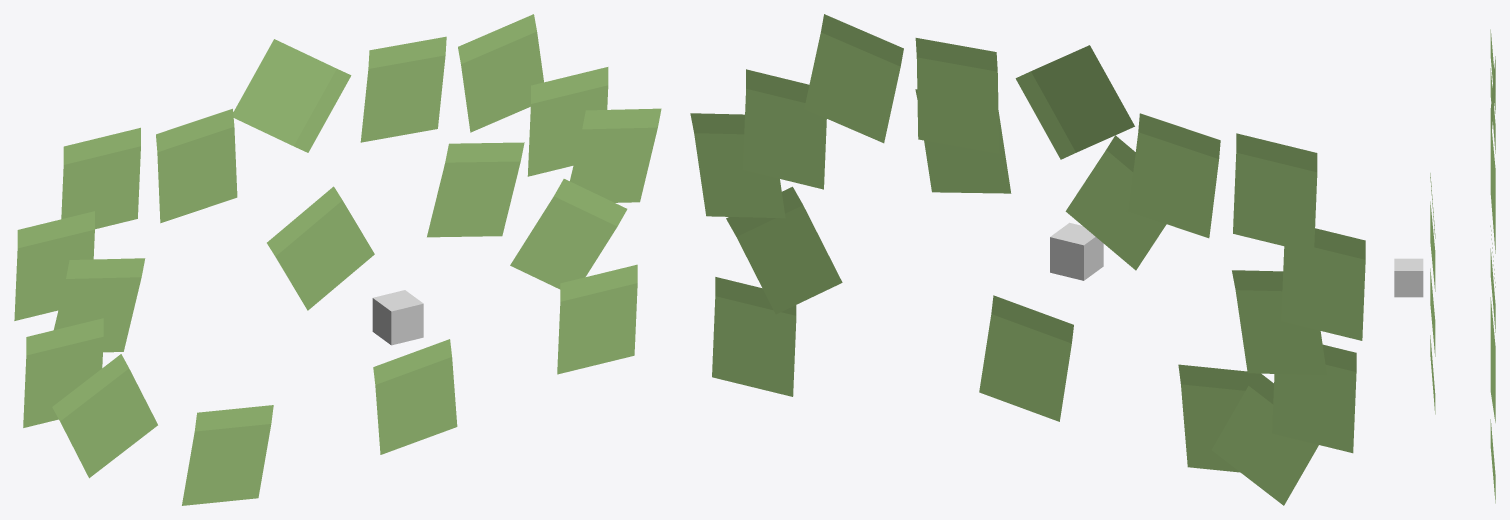
Rendered from Post-it_positions.fbx.
3 views of the same model, side by side, from view 1: azimuth 30°, elevation 25°; view 2: azimuth 150°, elevation 25°; view 3: azimuth 270°, elevation 25° (orthographic). The views are drawn at different scales.
Visible parts, largest first — view 1: Plane.013, Plane.014, Plane.015, Plane.010, Plane.003, Plane.007, Plane.016, Plane.008, Plane.009, Plane.017, Plane.002, Plane.012 (+6 smaller); view 2: Plane.002, Plane.016, Plane.007, Plane.004, Plane.010, Plane.003, Plane.006, Plane.013, Plane.005, Plane.008, Plane.001, Plane.009 (+6 smaller); view 3: PARENT, Plane.008, Plane.014, Plane.012, Plane.015, Plane.010, Plane.013, Plane.003, Plane.006, Plane.016, Plane.004, Plane.001 (+1 smaller).
Part boxes in pixels (x1,y1,x2,y2): Plane.013: [233, 39, 351, 152]; Plane.014: [427, 142, 524, 237]; Plane.015: [182, 405, 273, 505]; Plane.010: [360, 36, 446, 142]; Plane.003: [557, 264, 637, 374]; Plane.007: [156, 108, 237, 223]; Plane.016: [373, 339, 457, 454]; Plane.008: [510, 179, 627, 289]; Plane.009: [52, 354, 157, 478]; Plane.017: [267, 186, 374, 310]; Plane.002: [458, 14, 543, 132]; Plane.012: [570, 108, 661, 202]; Plane.002: [804, 14, 903, 143]; Plane.016: [979, 295, 1073, 421]; Plane.007: [1128, 113, 1220, 238]; Plane.004: [1233, 133, 1317, 253]; Plane.010: [915, 38, 999, 153]; Plane.003: [712, 277, 796, 396]; Plane.006: [742, 69, 826, 189]; Plane.013: [1015, 45, 1134, 159]; Plane.005: [1281, 228, 1365, 340]; Plane.008: [726, 186, 842, 314]; Plane.001: [1272, 344, 1356, 453]; Plane.009: [1211, 373, 1318, 505]; PARENT: [1394, 258, 1423, 297]; Plane.008: [1490, 339, 1495, 422]; Plane.014: [1430, 201, 1435, 291]; Plane.012: [1490, 297, 1495, 387]; Plane.015: [1430, 268, 1435, 356]; Plane.010: [1490, 128, 1495, 214]; Plane.013: [1490, 56, 1495, 135]; Plane.003: [1490, 419, 1495, 503]; Plane.006: [1490, 248, 1495, 332]; Plane.016: [1430, 335, 1435, 414]; Plane.004: [1490, 29, 1495, 113]; Plane.001: [1490, 162, 1495, 235].
Bounding box in the file's own units: 1726 × 1070 × 302.
